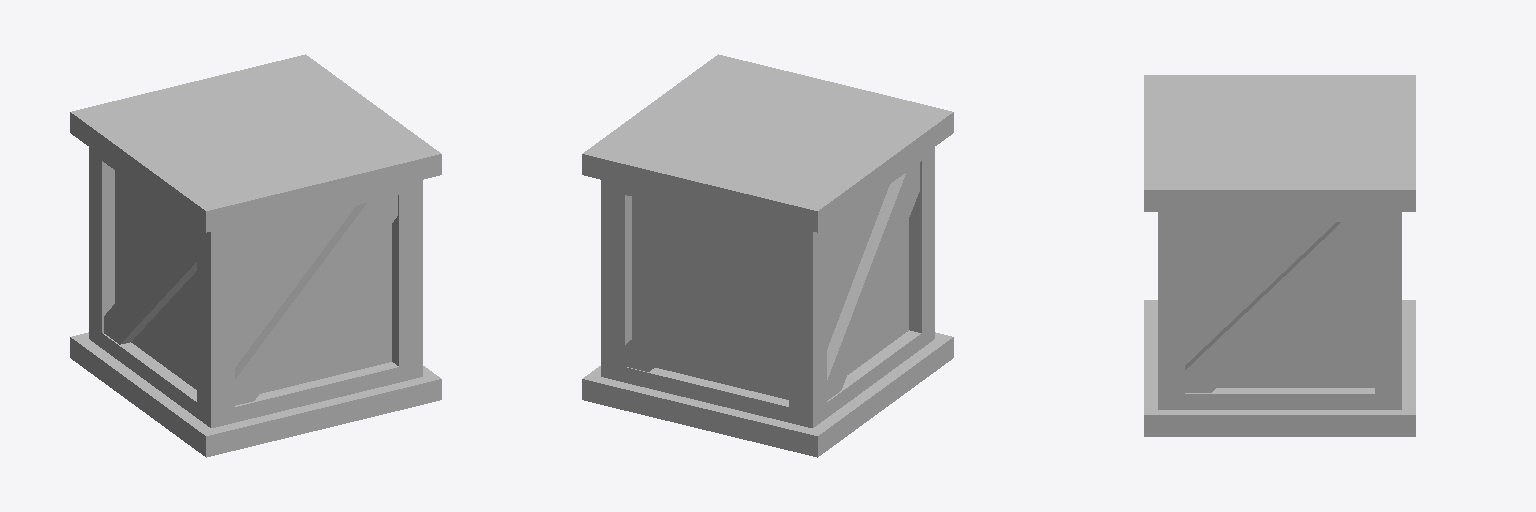
The model's file is crate_2_small_offset.obj.
The picture shows the model from 3 angles: view 1: azimuth 30°, elevation 25°; view 2: azimuth 150°, elevation 25°; view 3: azimuth 270°, elevation 25°; orthographic projection.
Visible parts, largest first — view 1: Crate_2_Small_Offset_Cube.007; view 2: Crate_2_Small_Offset_Cube.007; view 3: Crate_2_Small_Offset_Cube.007.
Part boxes in pixels (left/top/right/bottom): Crate_2_Small_Offset_Cube.007: left=70, top=54, right=441, bottom=457; Crate_2_Small_Offset_Cube.007: left=582, top=54, right=953, bottom=457; Crate_2_Small_Offset_Cube.007: left=1144, top=75, right=1415, bottom=436.
Bounding box in the file's own units: 0.7475 × 0.7465 × 0.7475.